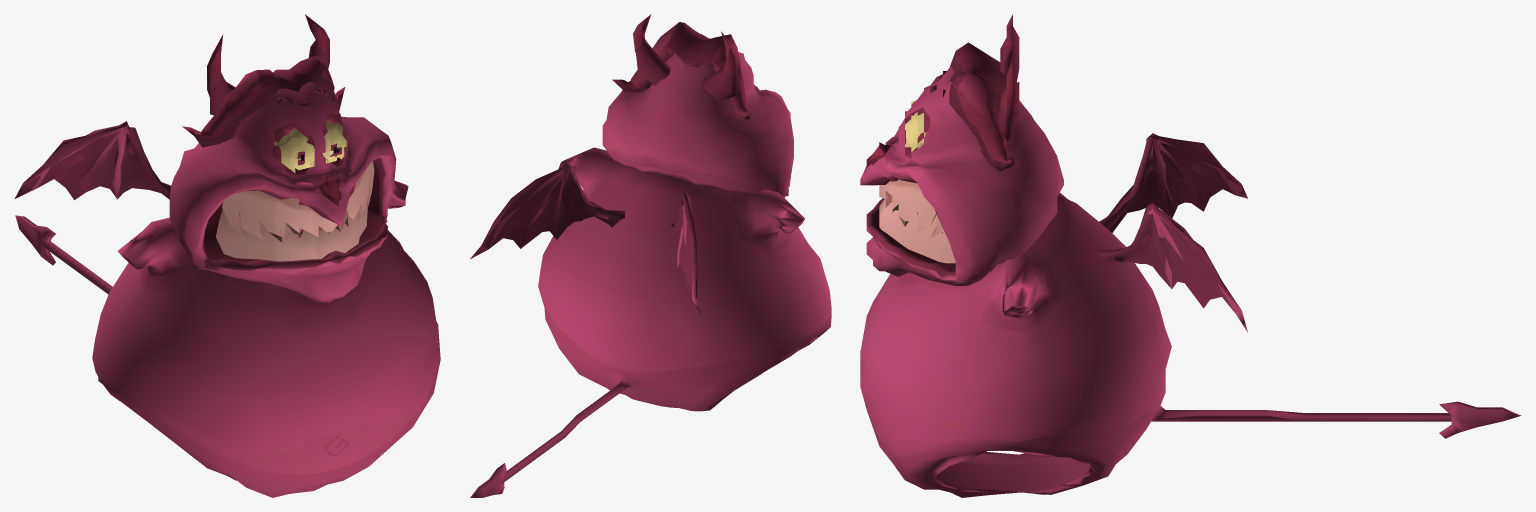
Rendered from CuerpoPena.obj.
3 views of the same model, side by side, from view 1: azimuth 30°, elevation 25°; view 2: azimuth 150°, elevation 25°; view 3: azimuth 270°, elevation 25° (orthographic). The views are drawn at different scales.
Parts seen in each view (by area): view 1: CuerpoPena; view 2: CuerpoPena; view 3: CuerpoPena.
Boxes of the visible parts, box(x1,y1,x2,y2) form: CuerpoPena: box(14, 14, 440, 497); CuerpoPena: box(470, 14, 831, 497); CuerpoPena: box(860, 14, 1521, 497).
Bounding box in the file's own units: 0.58 × 0.78 × 1.04.
